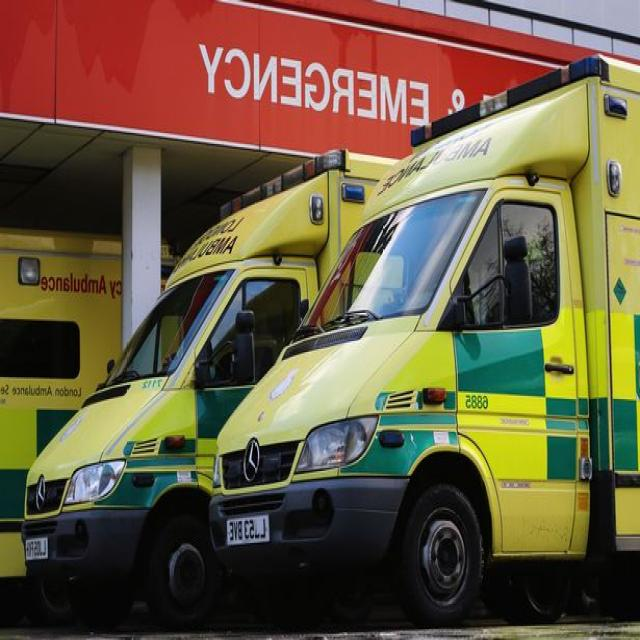emergency: (210, 56, 640, 624), (10, 150, 390, 627)
